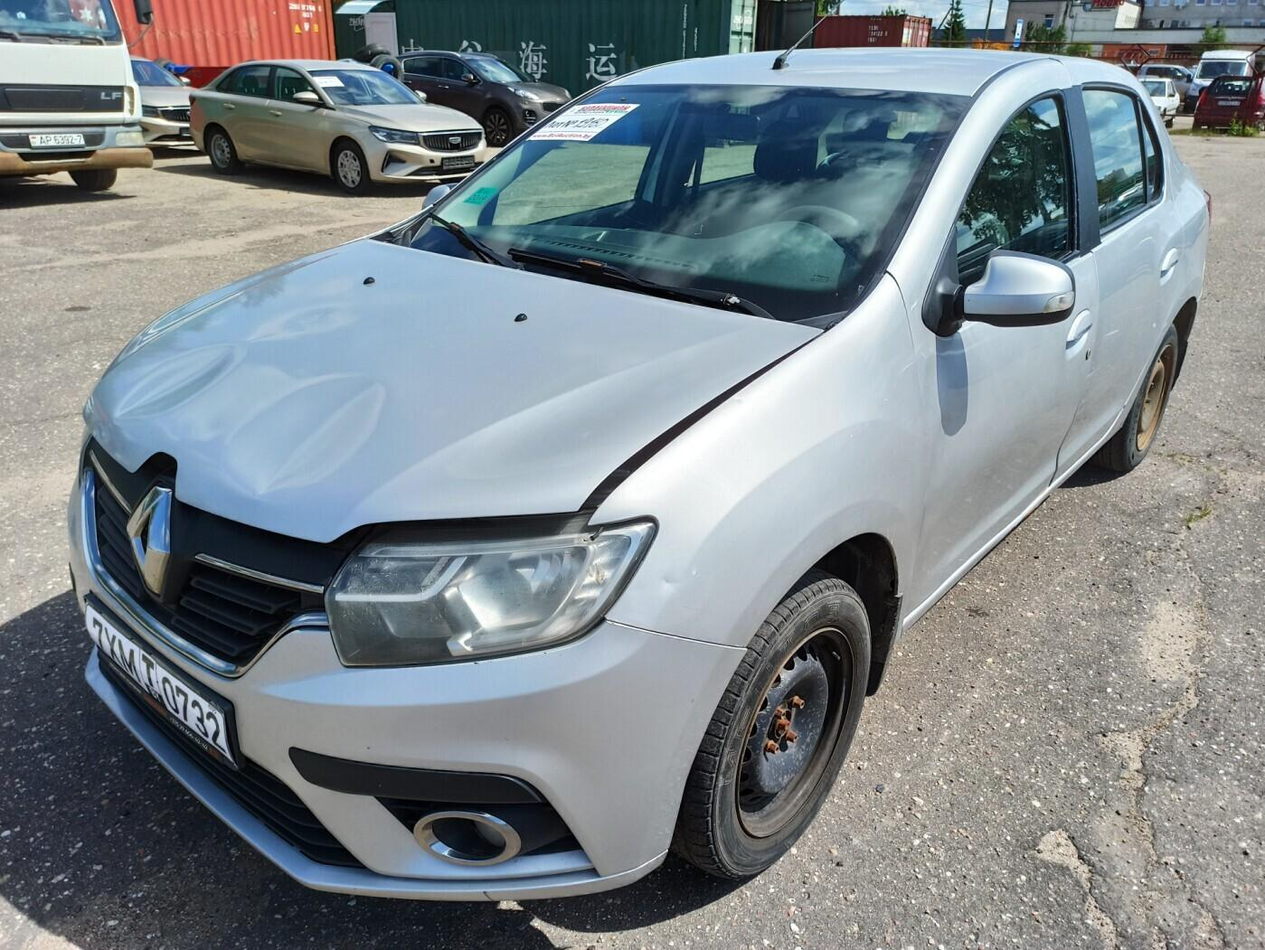Logan_2018: (66, 34, 1217, 916)
